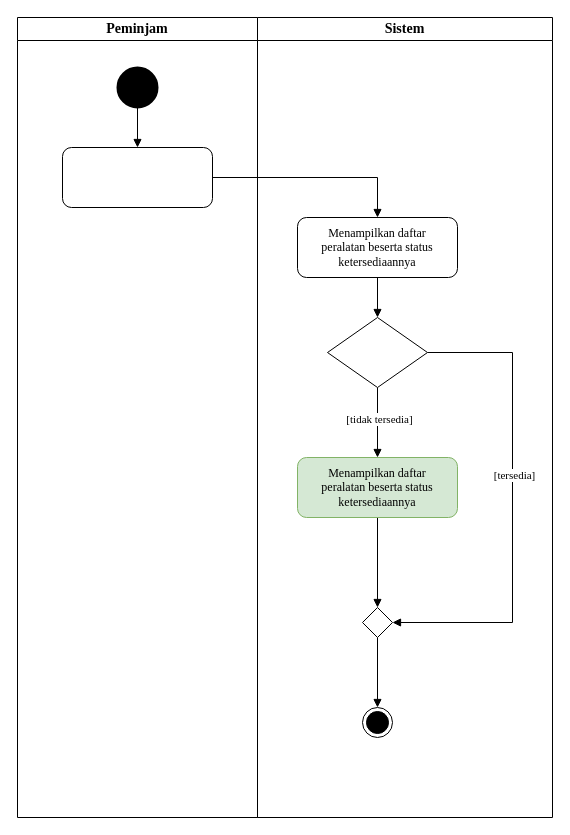
This 570x835 diagram has some shape labels left out. Here are the shapes that lost their labels. From the top down, the centre of each, then its label:
At [137,177]: "Membuka fungsi Lihat Ketersediaan Peralatan".
At [377,352]: "Peralatan Tersedia?".
